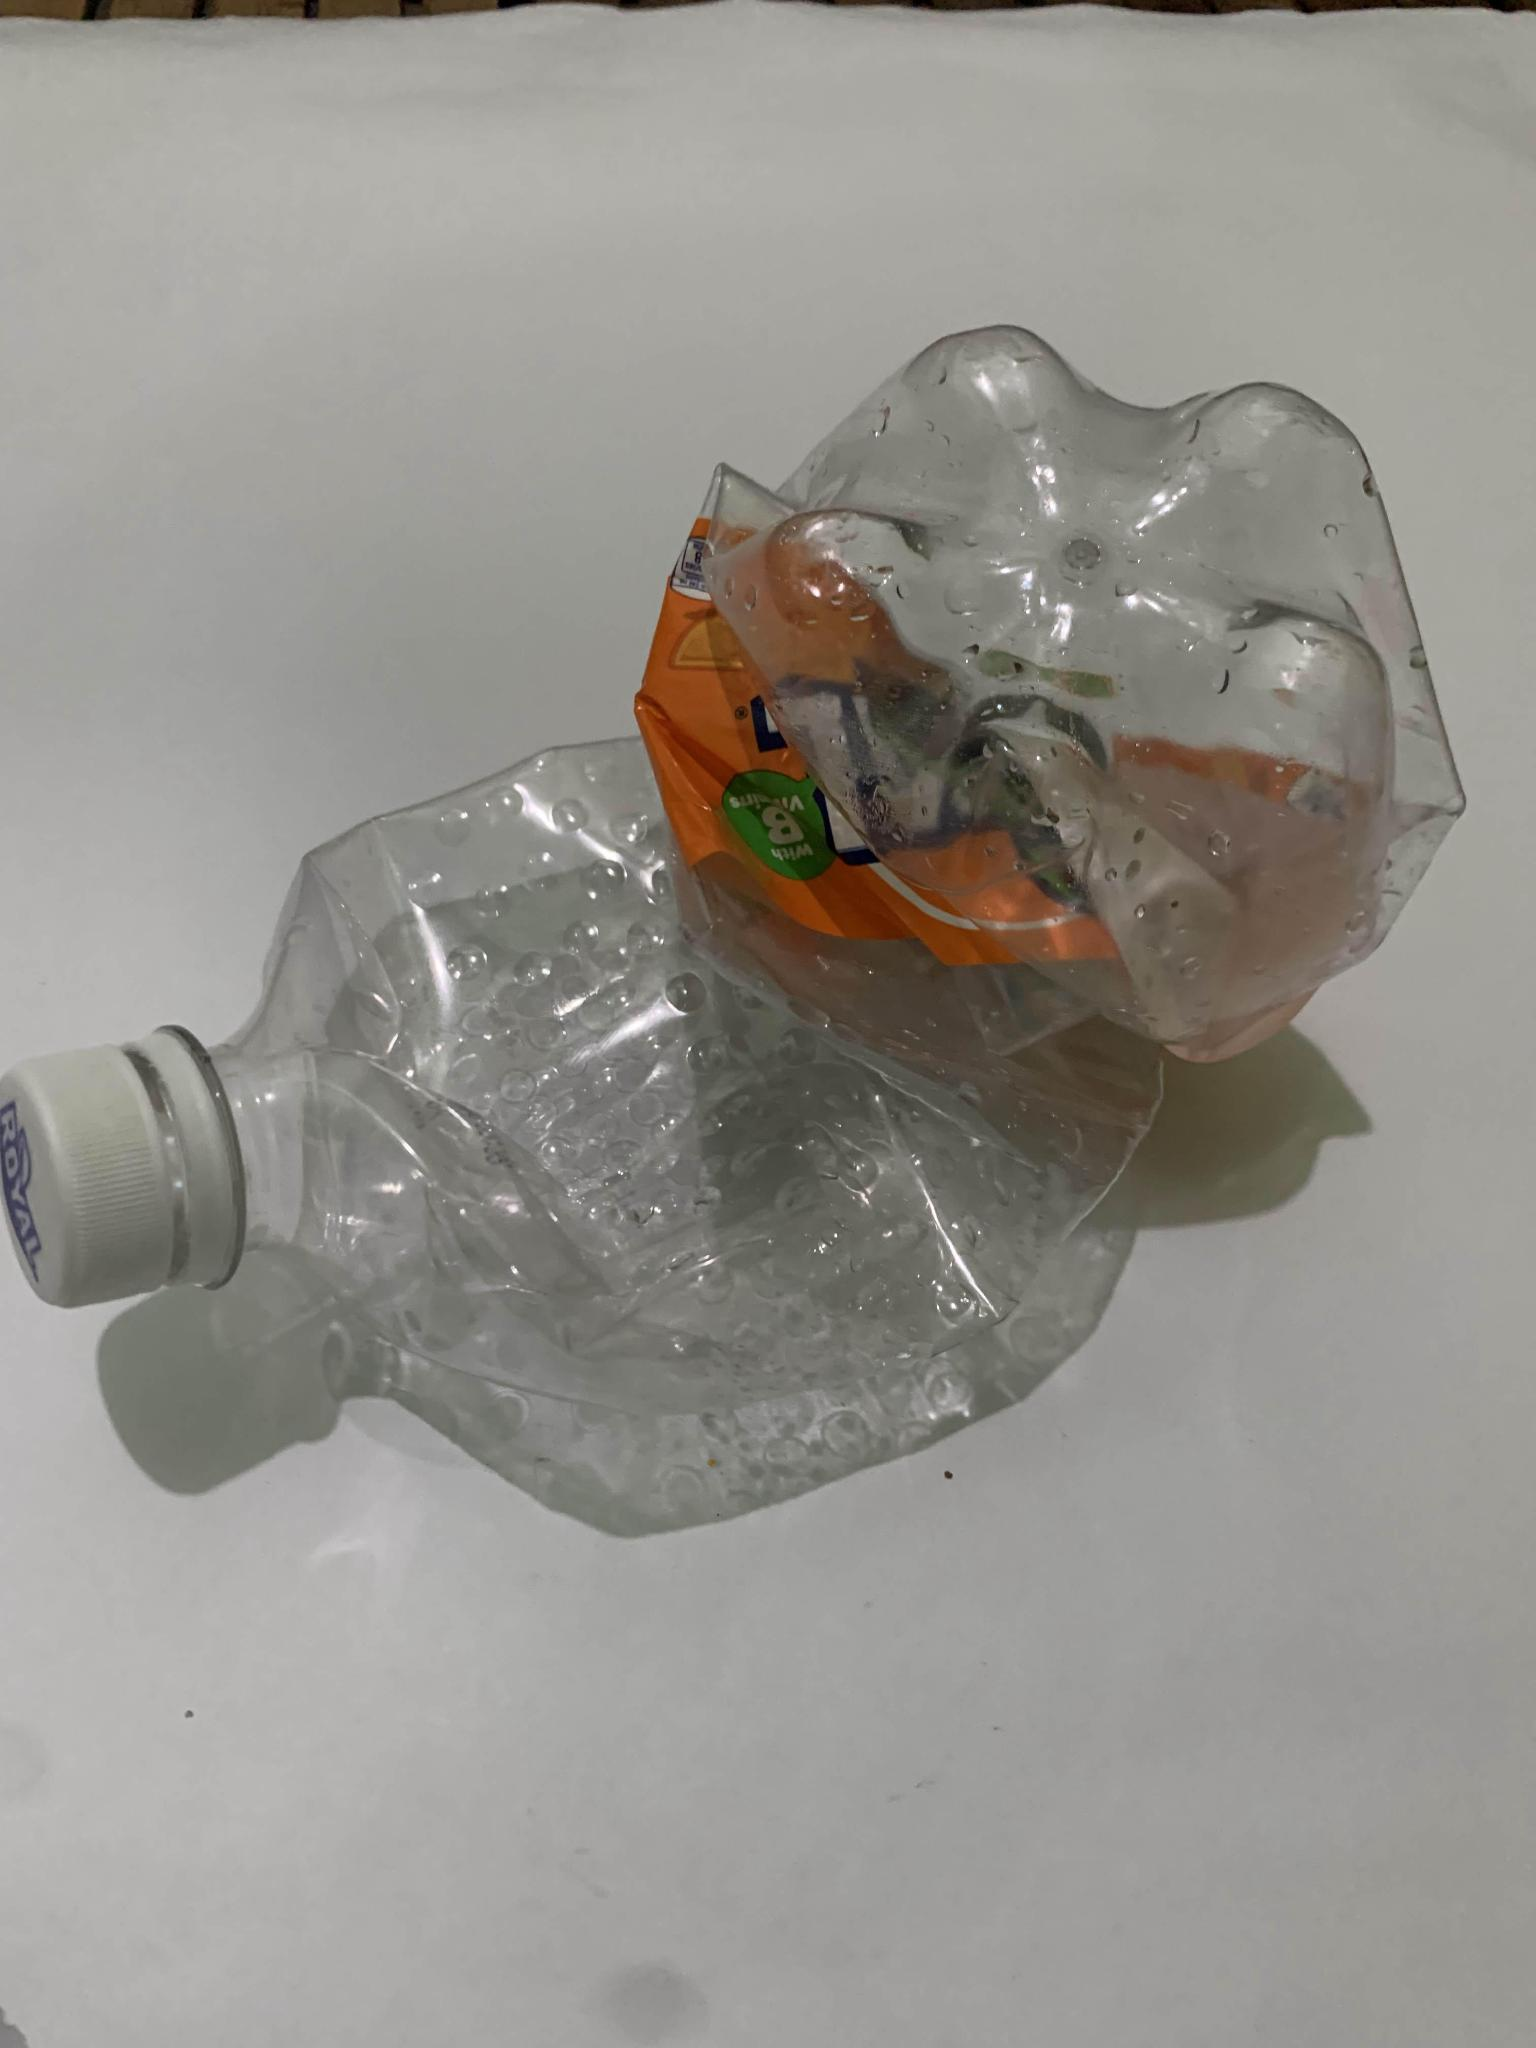bottle: (0, 290, 1499, 1590)
